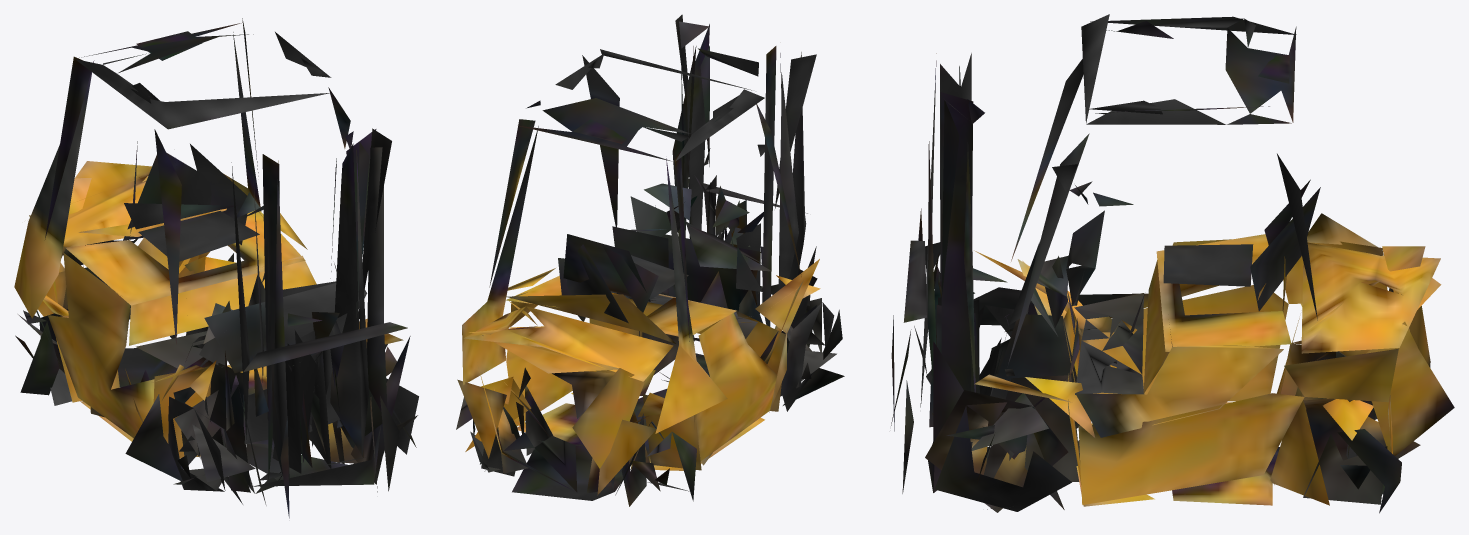
The model's file is hafen_gabelstapler_lo.glb.
3 views of the same model, side by side, from view 1: azimuth 30°, elevation 25°; view 2: azimuth 150°, elevation 25°; view 3: azimuth 270°, elevation 25° (orthographic). The views are drawn at different scales.
Parts seen in each view (by area): view 1: Prop; view 2: Prop; view 3: Prop.
Boxes of the visible parts, box(x1,y1,x2,y2) form: Prop: box(14, 18, 418, 518); Prop: box(456, 14, 844, 506); Prop: box(891, 14, 1454, 513).
Size of the model in its own units: 0.7763 by 1.03 by 1.26.
Materials: 1 (1 with a texture image).
